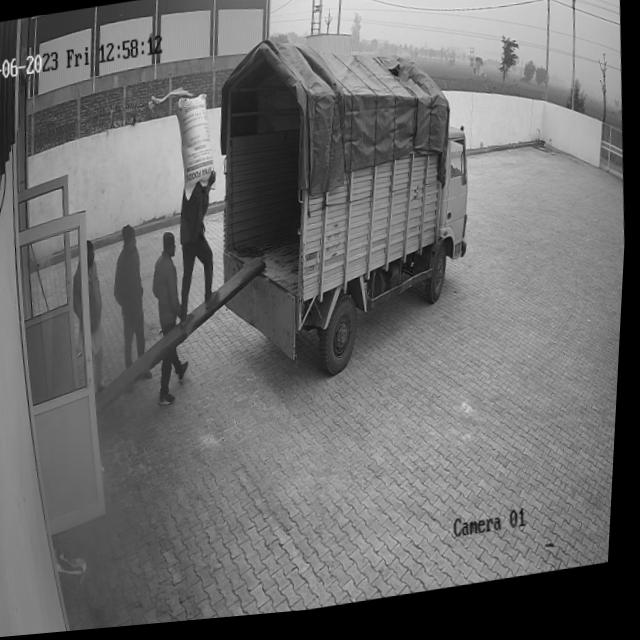sack: (172, 94, 219, 205)
